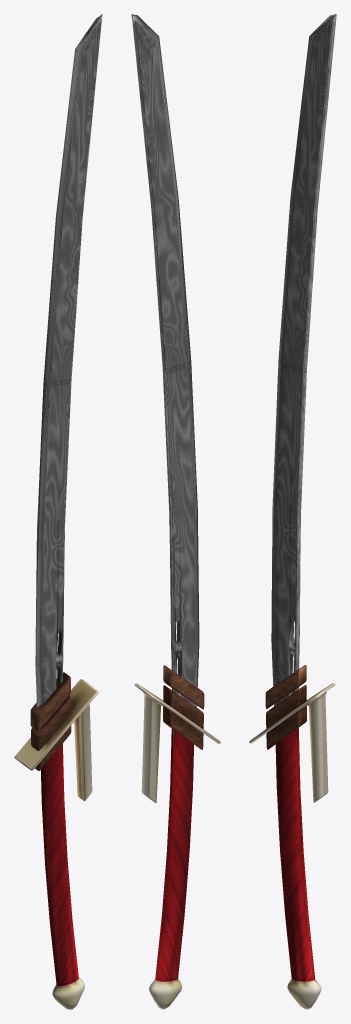
Rendered from Katana.glb.
The picture shows the model from 3 angles, left to right: view 1: azimuth 30°, elevation 25°; view 2: azimuth 210°, elevation 25°; view 3: azimuth 330°, elevation 25°; orthographic projection.
Visible parts, largest first — view 1: Katana; view 2: Katana; view 3: Katana.
Part boxes in pixels (x1,y1,x2,y2): Katana: [14, 14, 102, 1009]; Katana: [131, 14, 220, 1009]; Katana: [249, 14, 336, 1009].
Bounding box in the file's own units: 0.0633 × 0.7595 × 0.0254.
Materials: 1 (1 with a texture image).
